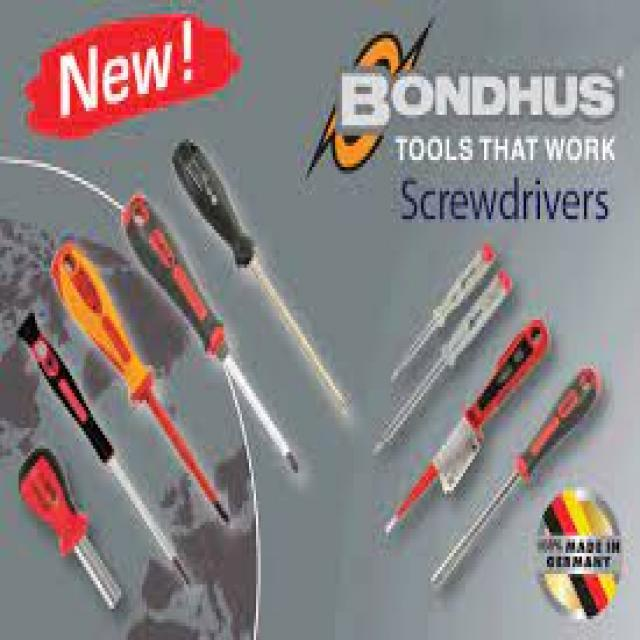screwdriver: (51, 242, 233, 527), (121, 191, 300, 473), (18, 309, 192, 588), (172, 138, 349, 412), (428, 363, 603, 600), (380, 315, 550, 541), (368, 268, 514, 462), (388, 245, 494, 388)
